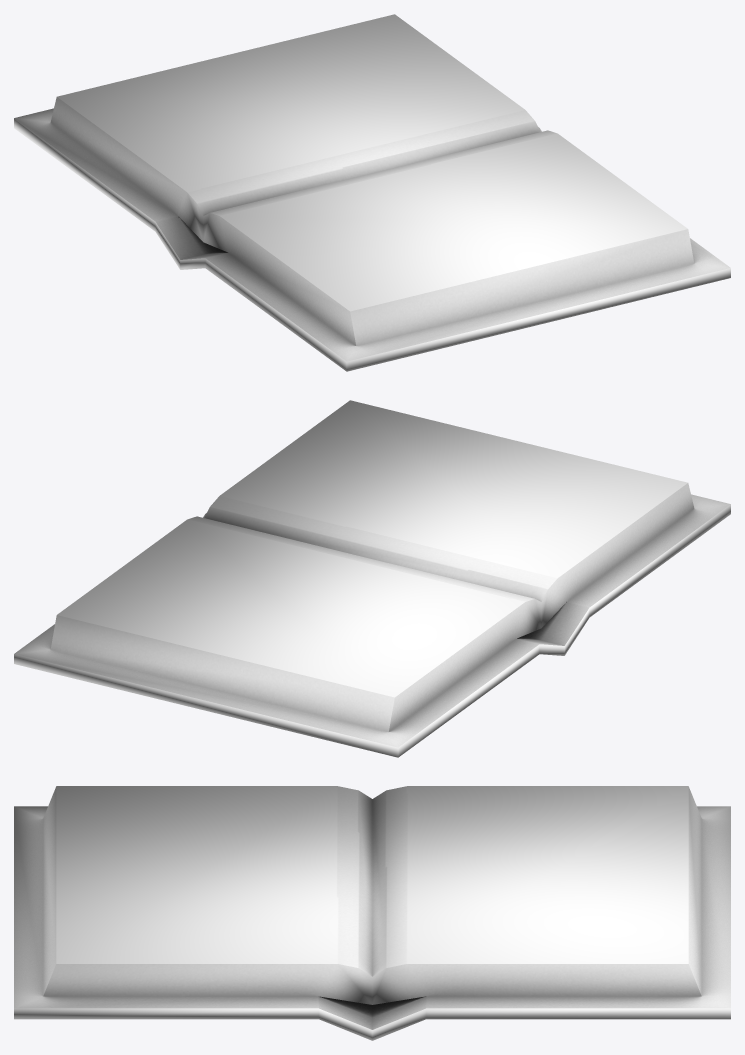
Rendered from Book_Open.dae.
3 renders of one model, top to bottom at view 1: azimuth 30°, elevation 25°; view 2: azimuth 150°, elevation 25°; view 3: azimuth 270°, elevation 25°, orthographic. The views are drawn at different scales.
Visible parts, largest first — view 1: Cube; view 2: Cube; view 3: Cube.
Part boxes in pixels (left/top/right/bottom): Cube: left=14, top=14, right=730, bottom=371; Cube: left=14, top=400, right=730, bottom=757; Cube: left=14, top=786, right=730, bottom=1040.
Size of the model in its own units: 2 by 3 by 0.3.
Materials: 1 (1 with a texture image).
